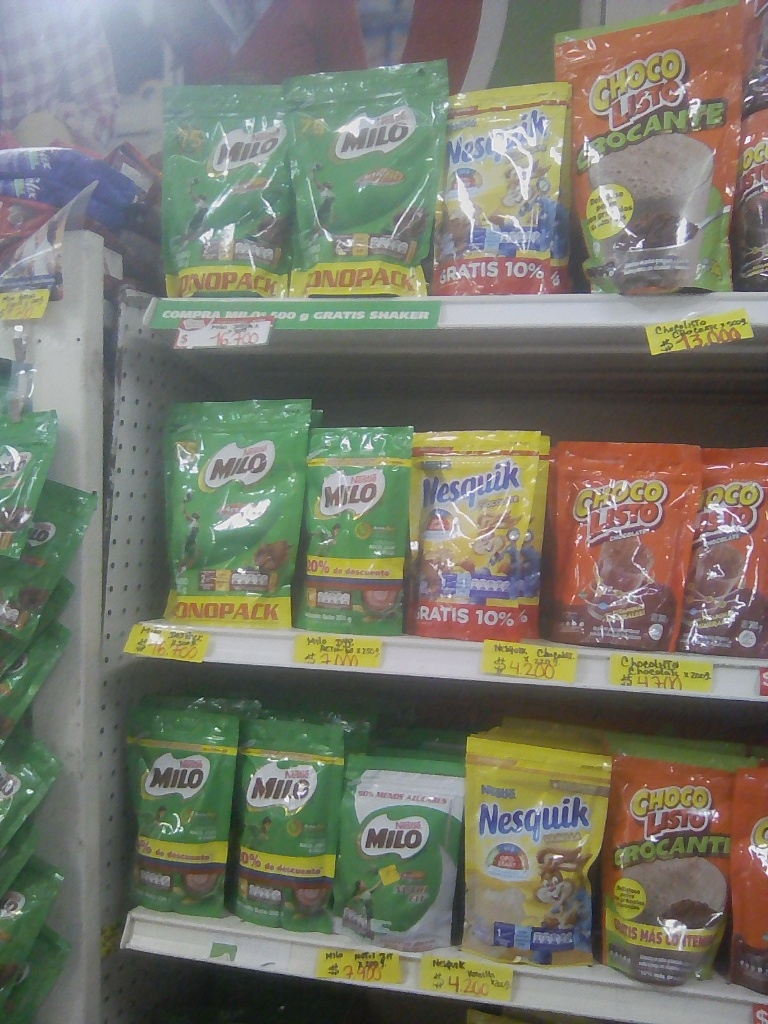COL0170102DYP50000: (564, 8, 756, 291)
COL0170103DYP20000: (554, 433, 684, 649)
COL0170203DYP25000: (298, 410, 428, 636)
COL0170203DYP50000: (158, 400, 307, 633)
COL0170205DYP20000: (335, 751, 462, 950)
COL0170306DYP20000: (467, 731, 597, 974)
